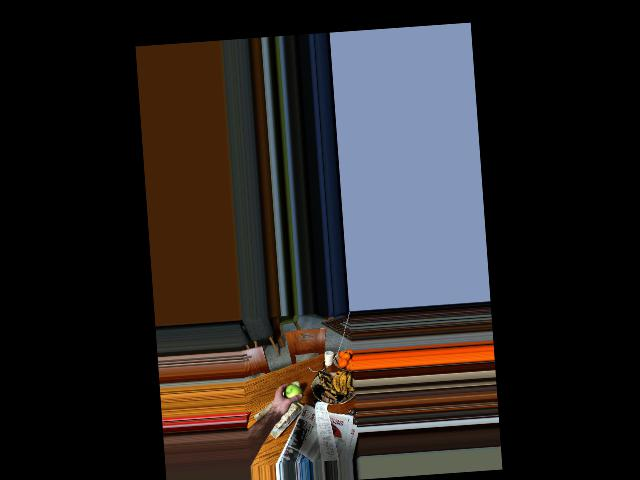apple: (282, 382, 303, 405)
